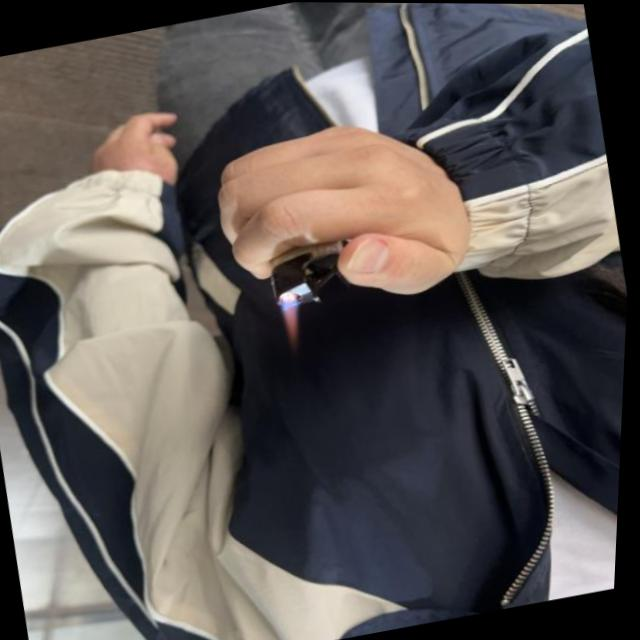Fire: (280, 294, 307, 347)
